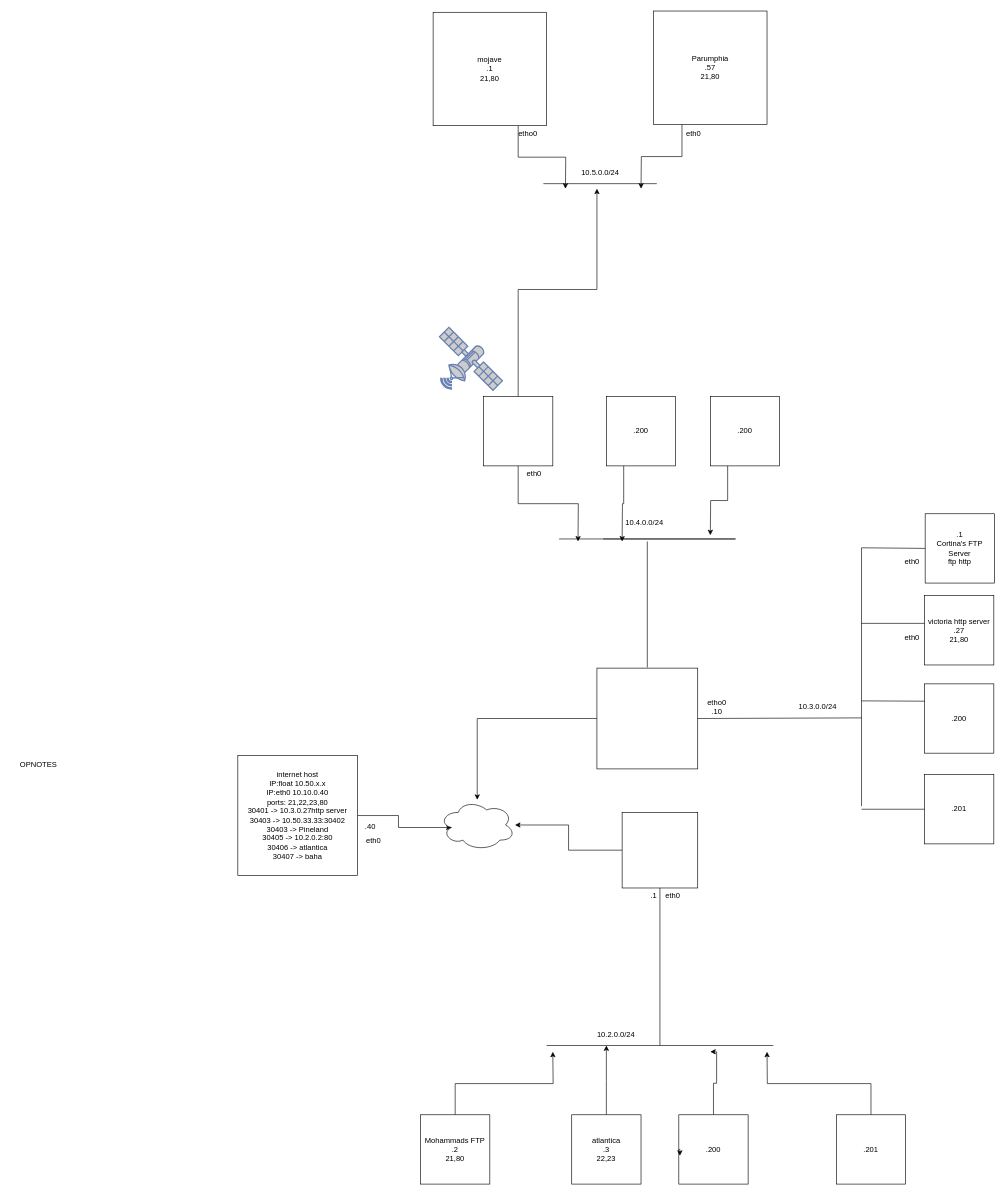
The diagram is 1005 pixels wide and 1195 high, and some of its shapes have lost their labels. The centre of each missing label's shape, as x and y in pixels:
Baha .1 ssh: point 518,431
Pineland 10.50.22.92 telnet: point 659,850
tunnels-training-Antropia float: 10.50.33.33 ssh 30402 -> pineland(ssh): point 647,718
